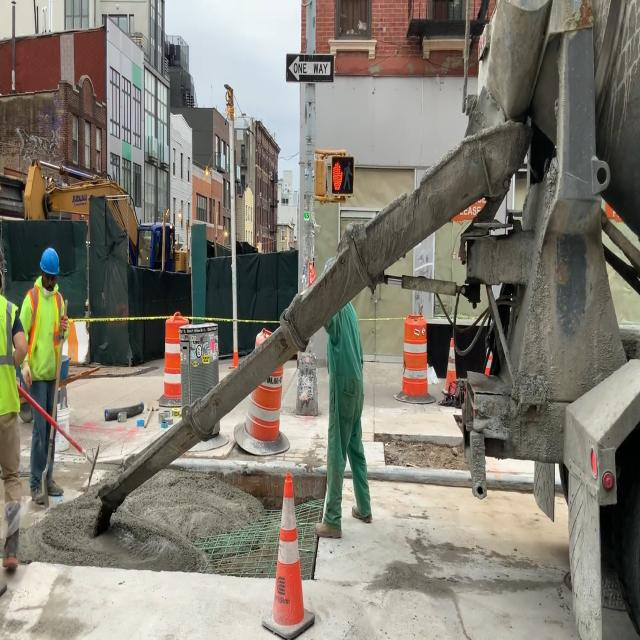worker: (21, 241, 71, 500)
